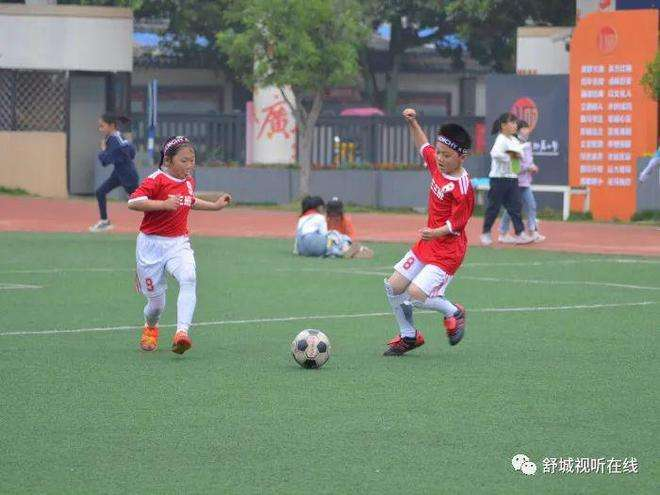football: (289, 328, 333, 368)
